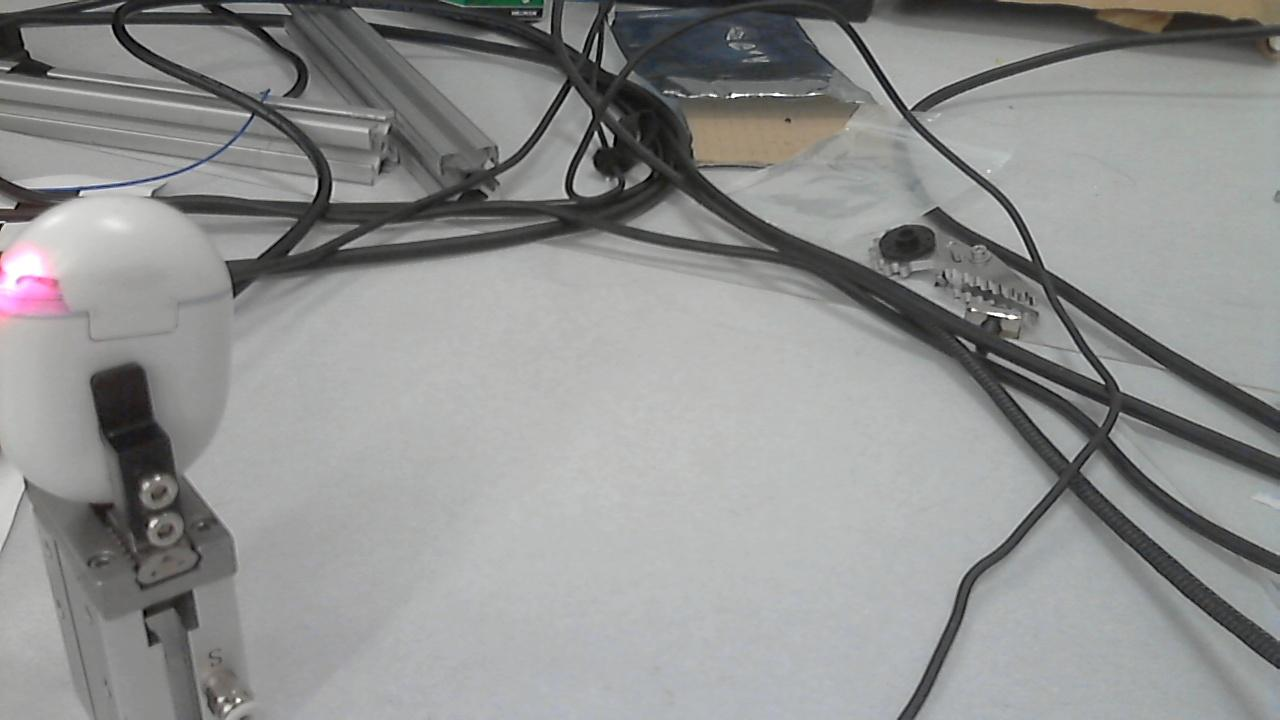Object wireless earbud charging case - Material plastic - Pdfname qzJIPQkli2jB: (0, 236, 57, 341)
